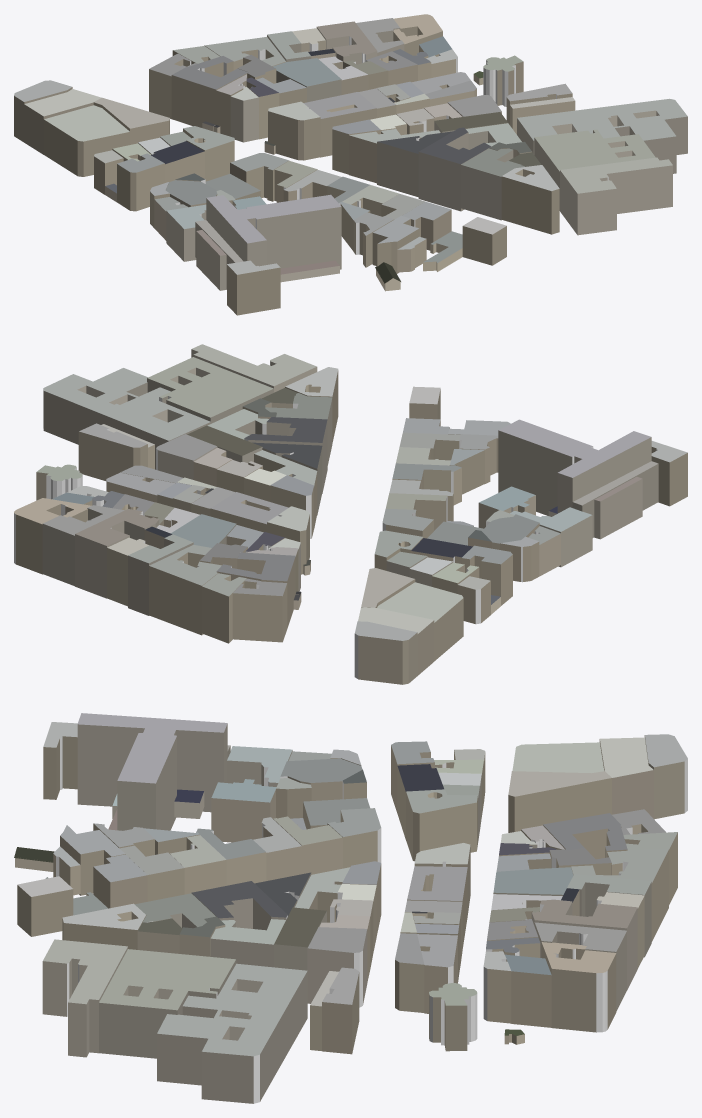
3 renders of one model, top to bottom at view 1: azimuth 30°, elevation 25°; view 2: azimuth 150°, elevation 25°; view 3: azimuth 270°, elevation 25°, orthographic. The views are drawn at different scales.
Parts seen in each view (by area): view 1: tuile; view 2: tuile; view 3: tuile.
Boxes of the visible parts, x1=… form: tuile: x1=14, y1=14, x2=687, y2=315; tuile: x1=14, y1=344, x2=687, y2=684; tuile: x1=14, y1=713, x2=687, y2=1103.
Bounding box in the file's own units: 299 × 35.11 × 264.
